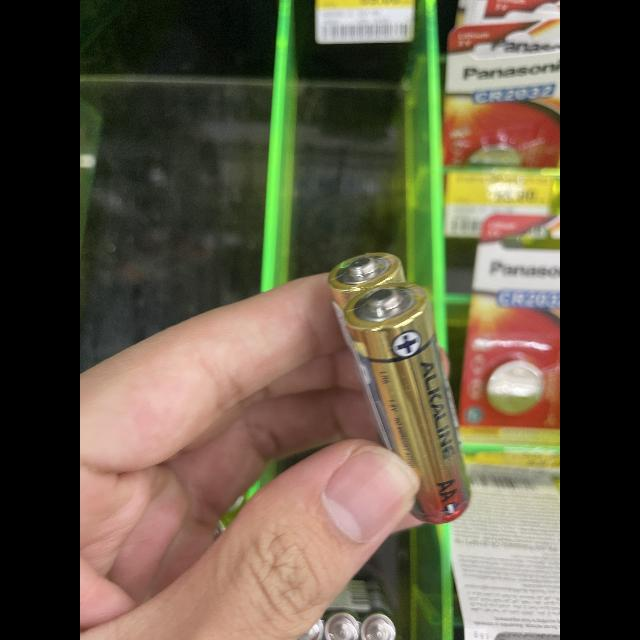battery: (444, 0, 560, 452), (336, 275, 478, 527), (331, 251, 413, 310)
